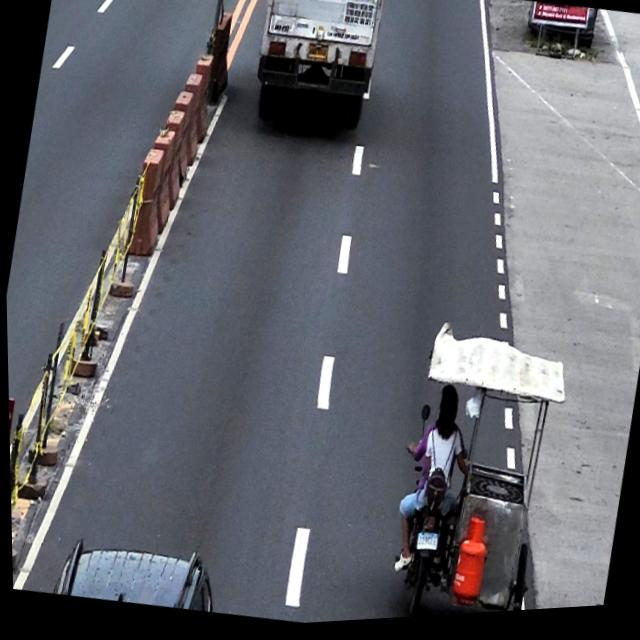License-Plate: (412, 535, 437, 559), (306, 46, 328, 66)
Tricycle: (376, 333, 570, 623)
Truck: (244, 0, 389, 144)
